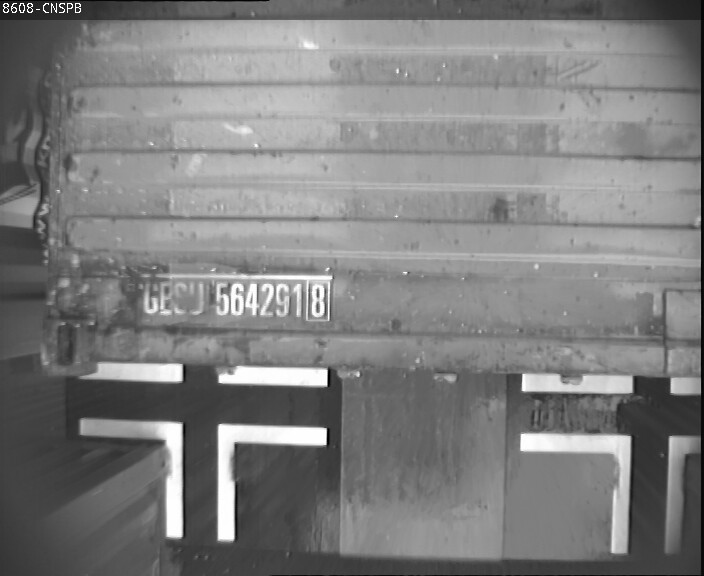groundmarker_1: (78, 418, 327, 539), (522, 432, 704, 552)
